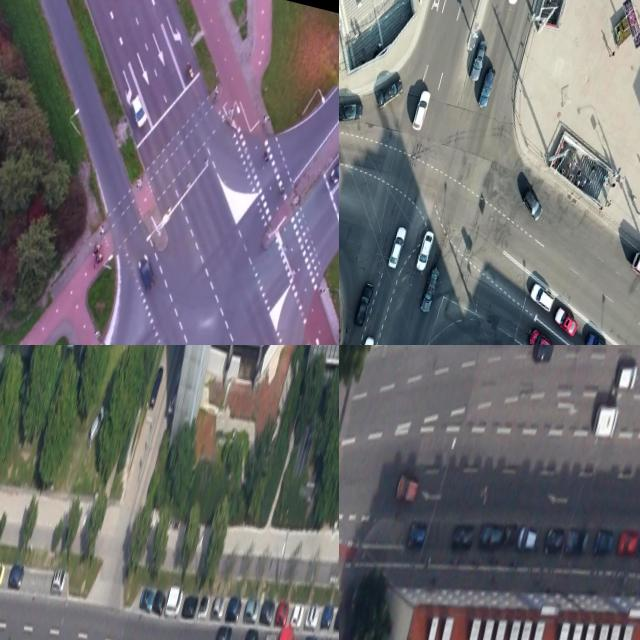UAI: (132, 252, 162, 291), (85, 401, 108, 450), (375, 75, 404, 112), (518, 186, 547, 222), (419, 266, 441, 313), (353, 282, 375, 328), (126, 92, 153, 129), (563, 526, 590, 562), (551, 305, 581, 337), (387, 224, 408, 269), (449, 520, 476, 555), (475, 67, 496, 110), (411, 89, 432, 132), (527, 282, 557, 312), (477, 520, 505, 552), (415, 230, 435, 271), (469, 40, 488, 83), (394, 472, 420, 503), (591, 527, 615, 559), (148, 366, 165, 411), (615, 529, 639, 560), (164, 582, 185, 617), (339, 97, 364, 126), (614, 361, 639, 390), (516, 524, 540, 554), (543, 527, 566, 557), (405, 520, 428, 549), (500, 518, 520, 551), (224, 593, 244, 625), (7, 562, 26, 591), (50, 566, 69, 595), (327, 143, 339, 188), (181, 593, 200, 621), (526, 328, 556, 345), (274, 599, 291, 628), (259, 599, 276, 627), (304, 603, 321, 631), (138, 586, 156, 612), (243, 596, 261, 622), (531, 345, 557, 363), (290, 600, 306, 629), (151, 588, 167, 615), (319, 603, 335, 630), (197, 593, 212, 621), (211, 594, 227, 620), (582, 331, 611, 345), (213, 623, 233, 640), (274, 627, 296, 640), (242, 627, 260, 640), (354, 335, 375, 345), (0, 559, 7, 586), (333, 604, 339, 631), (261, 630, 277, 640), (299, 634, 319, 640)
harvester: (591, 400, 621, 443), (626, 251, 640, 291)
